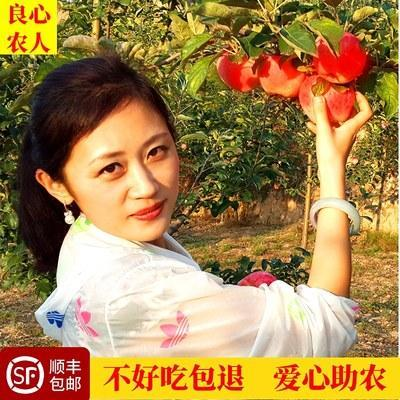apple: (299, 73, 355, 126), (312, 30, 368, 83), (255, 53, 306, 100)
